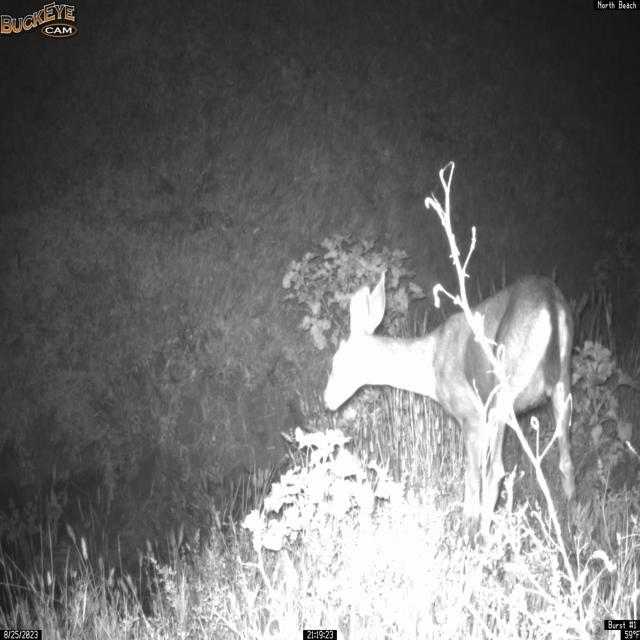deer: (322, 269, 579, 549)
